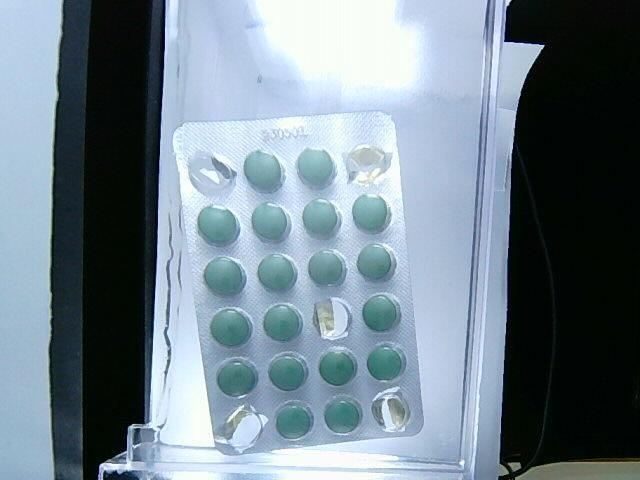Light Front: (169, 112, 424, 456)
No Pill Front: (223, 404, 268, 453), (189, 151, 236, 194), (345, 144, 392, 184), (314, 298, 351, 339), (373, 393, 409, 432)
Pill Front: (198, 205, 240, 245), (244, 153, 284, 193), (204, 256, 246, 294), (298, 148, 336, 189), (216, 359, 258, 395), (363, 293, 401, 332), (210, 309, 251, 345), (251, 204, 289, 242), (324, 396, 362, 434), (356, 244, 396, 280), (353, 195, 390, 233), (276, 401, 313, 438), (258, 254, 296, 290), (269, 354, 307, 390), (368, 344, 406, 380), (264, 304, 302, 340), (303, 200, 340, 236), (309, 250, 346, 285), (320, 349, 355, 385)
